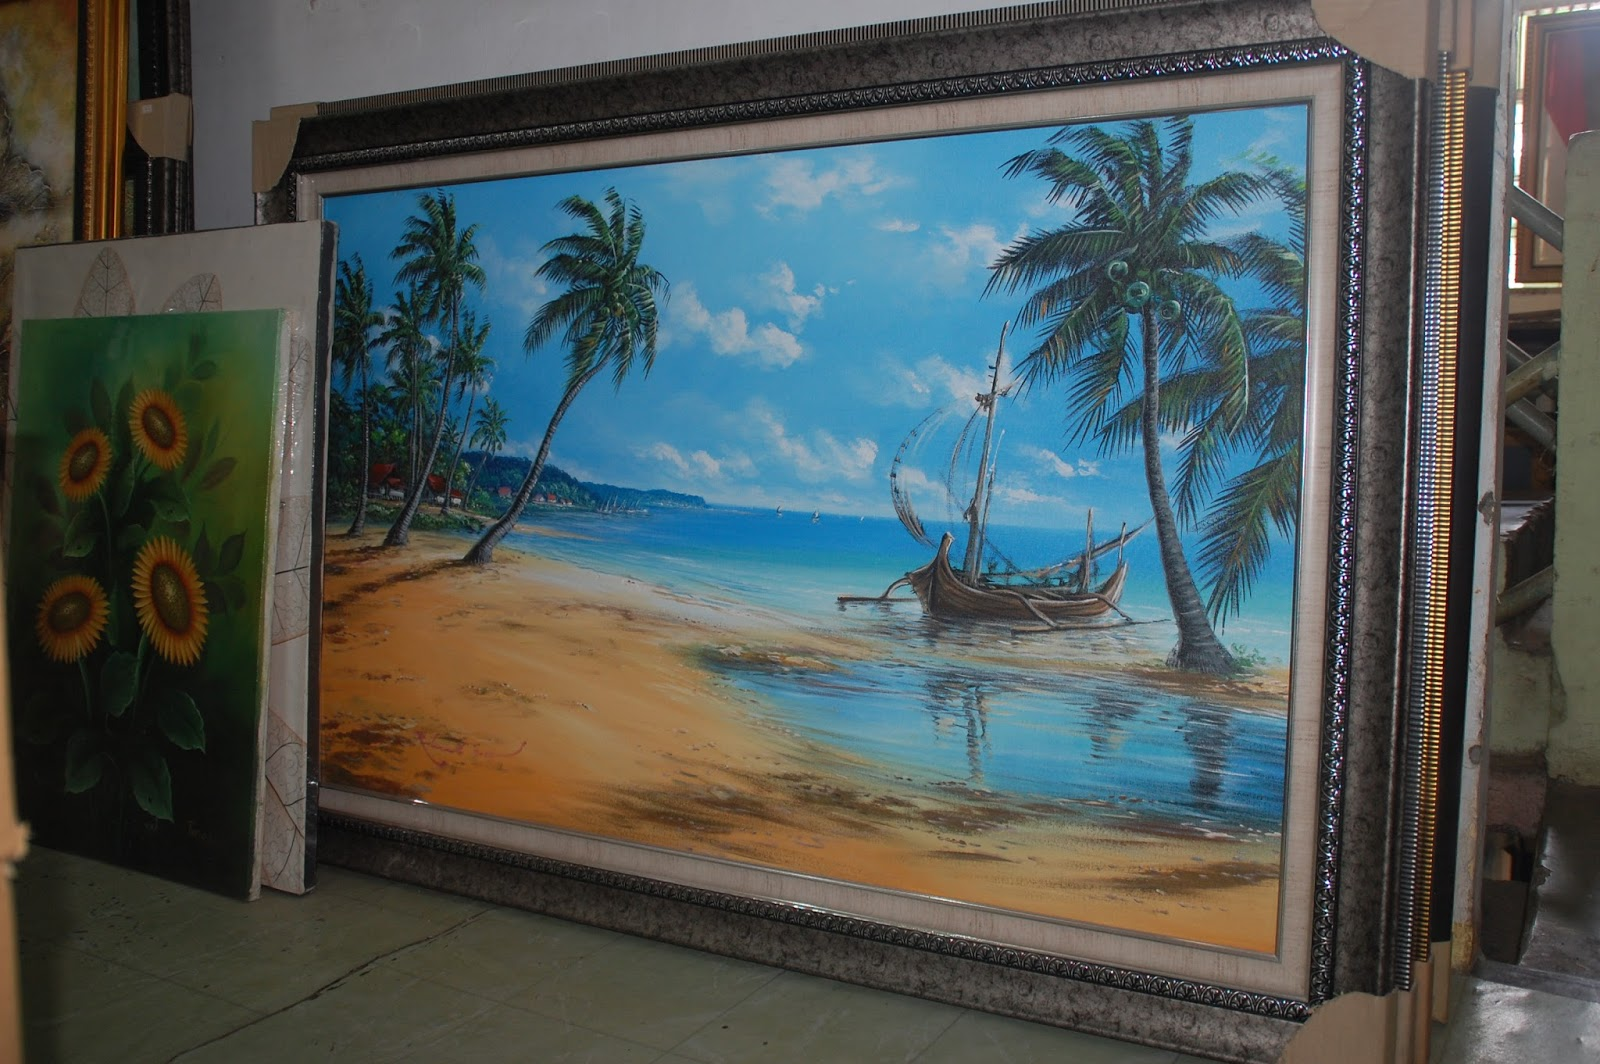lukisan: (220, 27, 1418, 963)
